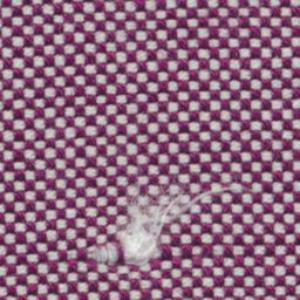fault: (73, 177, 250, 270)
